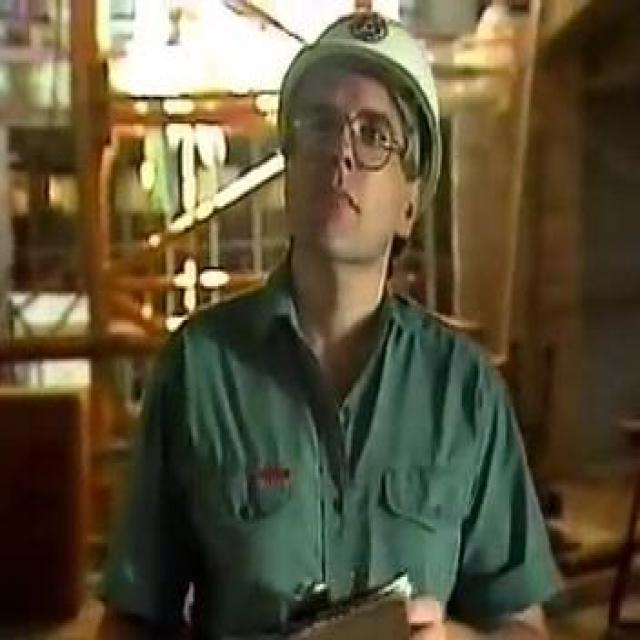Reflective-Jacket: (102, 264, 571, 640)
Safety-Helmet: (242, 3, 474, 155)
